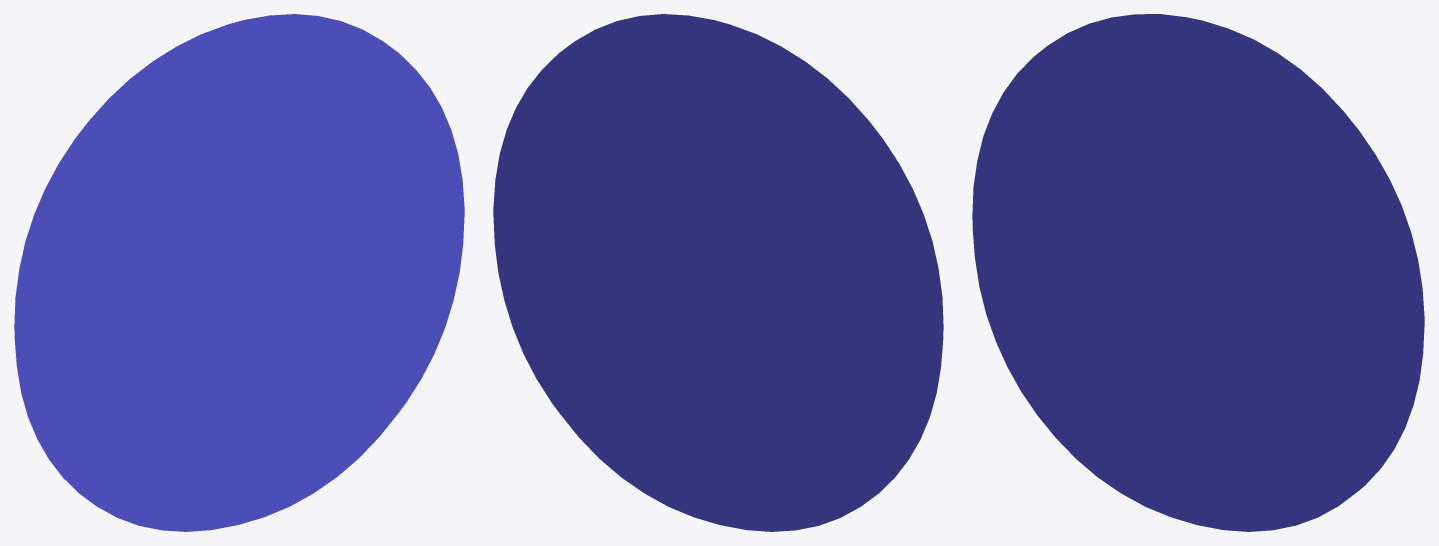
Rendered from original-80.obj.
3 views of the same model, side by side, from view 1: azimuth 30°, elevation 25°; view 2: azimuth 150°, elevation 25°; view 3: azimuth 330°, elevation 25° (orthographic).
Visible parts, largest first — view 1: Group_25/mesh144/mesh144-geometry#mesh144-geometry; view 2: Group_25/mesh144/mesh144-geometry#mesh144-geometry; view 3: Group_25/mesh144/mesh144-geometry#mesh144-geometry.
Boxes of the visible parts, bbox=[...] form: Group_25/mesh144/mesh144-geometry#mesh144-geometry: bbox=[14, 14, 464, 531]; Group_25/mesh144/mesh144-geometry#mesh144-geometry: bbox=[493, 14, 943, 531]; Group_25/mesh144/mesh144-geometry#mesh144-geometry: bbox=[972, 14, 1424, 531].
Size of the model in its own units: 0.012 by 0.0128 by 0.
